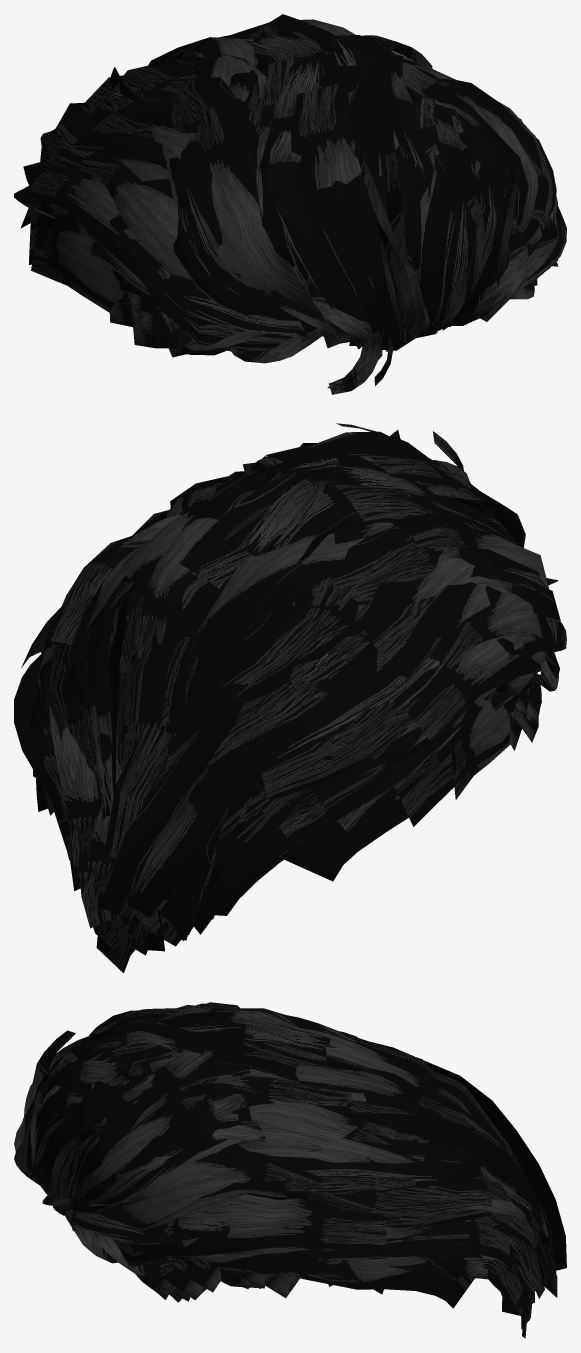
Rendered from Hair_9.fbx.
The picture shows the model from 3 angles, top to bottom: view 1: azimuth 30°, elevation 25°; view 2: azimuth 150°, elevation 25°; view 3: azimuth 270°, elevation 25°; orthographic projection. The views are drawn at different scales.
Visible parts, largest first — view 1: avaturn_hair_1, avaturn_hair_0; view 2: avaturn_hair_1, avaturn_hair_0; view 3: avaturn_hair_1, avaturn_hair_0.
Boxes of the visible parts, <box> form: avaturn_hair_1: <box>14,19,566,394</box>; avaturn_hair_0: <box>38,14,557,215</box>; avaturn_hair_1: <box>14,423,566,940</box>; avaturn_hair_0: <box>44,466,448,973</box>; avaturn_hair_1: <box>14,1002,557,1308</box>; avaturn_hair_0: <box>87,1008,566,1338</box>.
Bounding box in the file's own units: 17.45 × 14.44 × 22.88.
